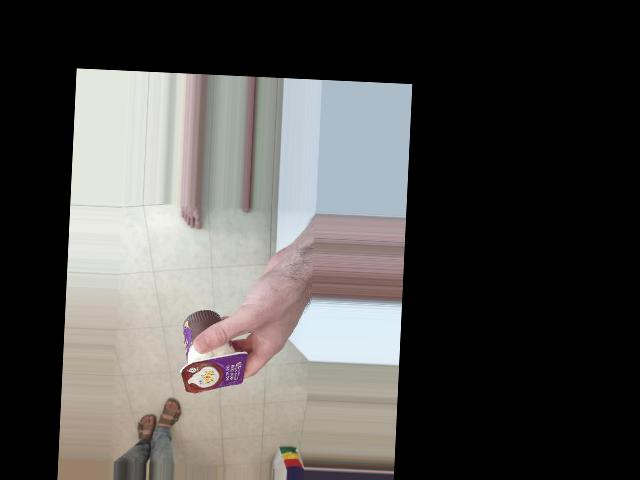milky: (148, 335, 238, 401)
